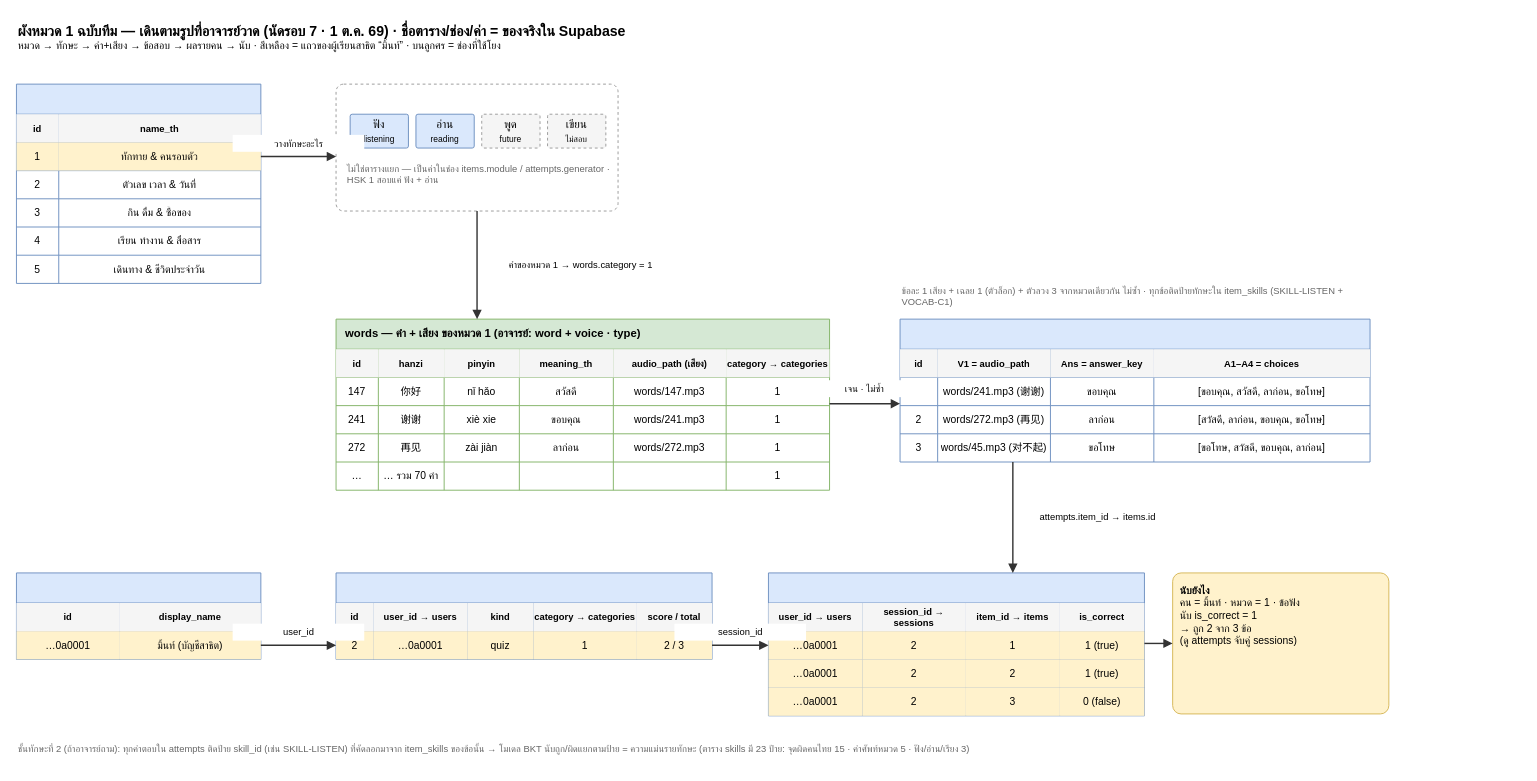
This 1537x781 diagram has some shape labels left out. Each missing label, with the box of its shape:
attempts — ผลรายข้อ (อาจารย์: U · C · Lis · # → 1/0): (768, 572, 1144, 716)
categories — หมวด (อาจารย์: cat): (16, 83, 261, 283)
items — ข้อสอบฟัง (อาจารย์: Lis): (899, 318, 1370, 462)
sessions — รอบควิซหมวด 1 (อาจารย์: C): (335, 572, 712, 659)
users — ผู้เรียน (อาจารย์: U): (16, 572, 261, 659)
ทักษะที่วางในหมวด (อาจารย์: skills): (335, 83, 618, 211)
